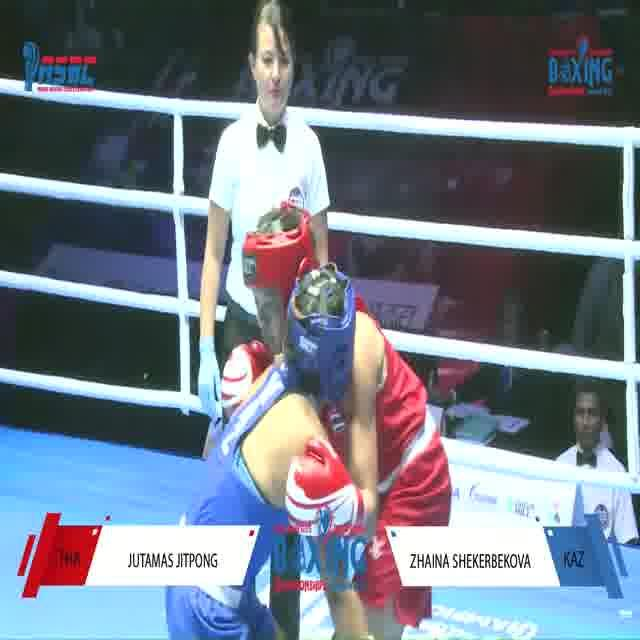blue-player: (160, 264, 374, 640)
red-player: (214, 197, 456, 640)
referee: (195, 0, 336, 640)
